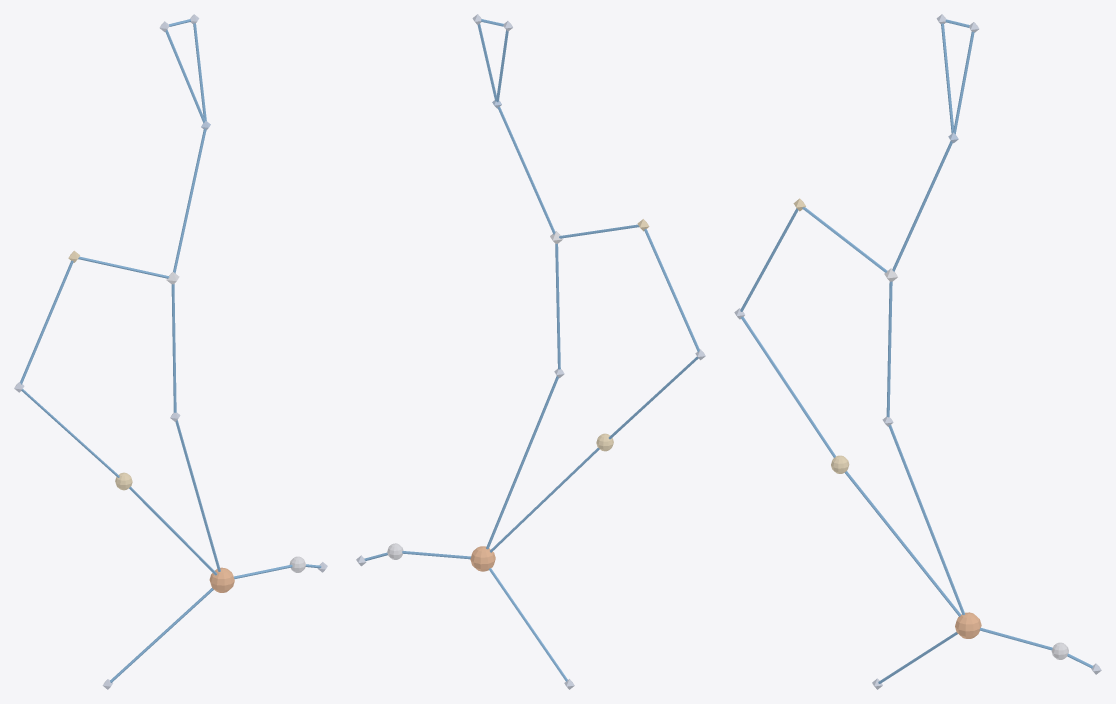
Rendered from constellation-boo.glb.
3 views of the same model, side by side, from view 1: azimuth 30°, elevation 25°; view 2: azimuth 150°, elevation 25°; view 3: azimuth 330°, elevation 25° (orthographic). The views are drawn at different scales.
Bounding box in the file's own units: 2.11 × 3.98 × 0.4133.
